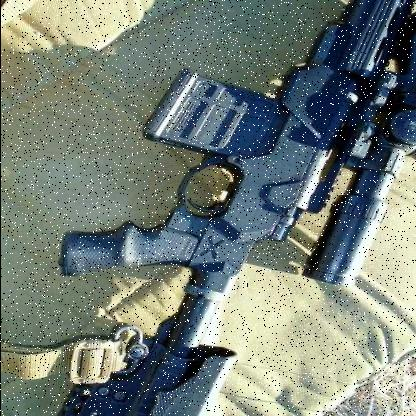rifle: (55, 0, 416, 306)
